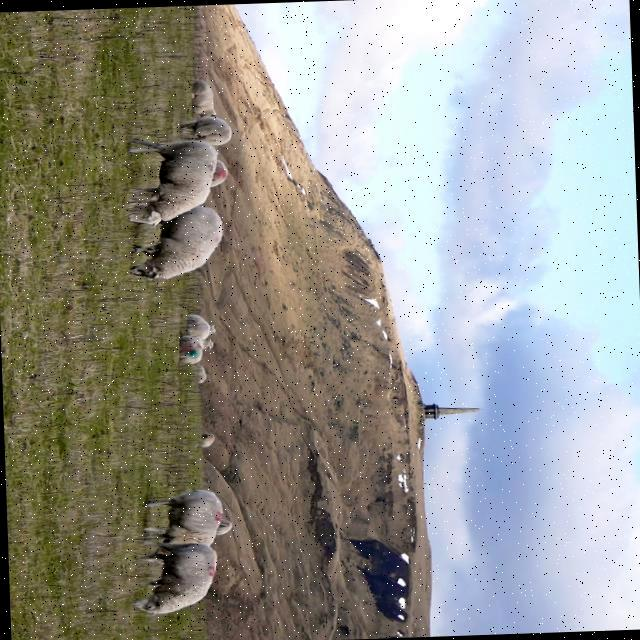sheep: (128, 137, 224, 215), (131, 203, 222, 276), (135, 540, 218, 613), (144, 487, 219, 546), (185, 114, 231, 143)
